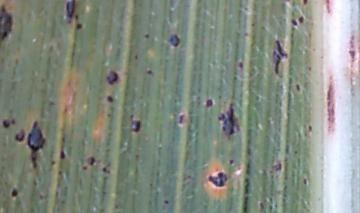tarspot: (25, 119, 47, 169), (216, 101, 241, 137), (324, 73, 337, 133), (271, 39, 290, 77), (1, 4, 14, 47), (206, 171, 228, 189), (347, 33, 357, 69), (64, 1, 78, 23), (105, 68, 118, 87), (127, 119, 142, 135), (12, 128, 25, 144), (168, 33, 181, 48), (176, 113, 186, 129), (270, 161, 283, 173), (323, 1, 333, 16), (101, 162, 112, 175), (105, 94, 116, 104), (204, 98, 214, 108), (59, 148, 67, 160), (88, 155, 96, 167), (289, 17, 298, 27), (47, 99, 57, 108), (2, 119, 10, 130), (236, 59, 244, 69), (31, 177, 39, 187), (307, 124, 313, 136), (74, 22, 83, 30), (227, 157, 234, 167), (132, 52, 139, 62), (57, 168, 64, 178), (298, 14, 304, 25), (302, 176, 308, 187), (10, 189, 18, 197), (242, 5, 250, 13), (300, 1, 309, 8), (146, 68, 153, 76), (73, 14, 80, 22), (37, 192, 45, 199), (254, 94, 261, 102), (318, 53, 325, 61), (295, 82, 300, 93), (241, 31, 250, 37), (162, 198, 169, 205), (81, 165, 88, 172), (128, 112, 135, 119), (10, 117, 16, 125), (306, 65, 312, 73), (249, 20, 255, 28), (49, 159, 57, 165), (61, 135, 66, 144), (105, 111, 112, 117), (173, 96, 178, 104), (293, 149, 299, 155), (144, 33, 149, 39), (312, 46, 316, 53)
